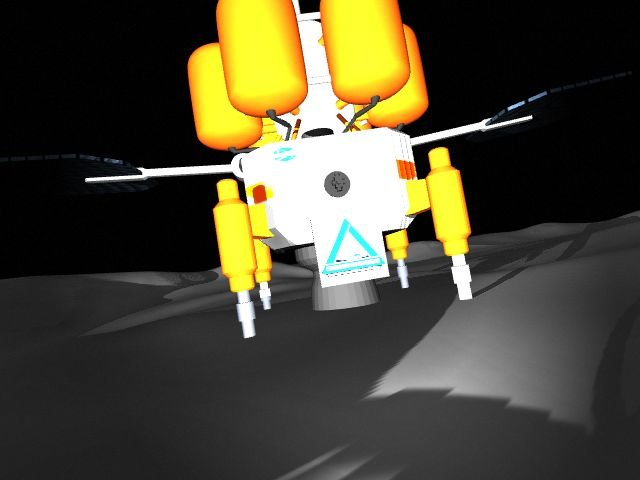basemarker: (320, 217, 387, 275)
